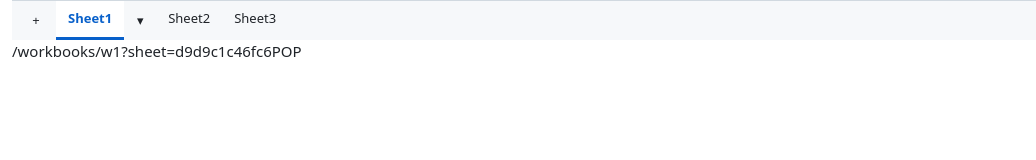
it: SheetTabs › rename › cancels on Escape
Double-click the tab with test id "sheet-tab" showing "Sheet1" at (90, 20), box [56,1,124,40]
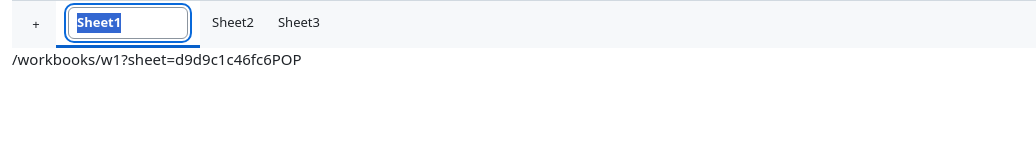
Replace the text in the field named "Sheet name" with "Budget" at (128, 23), box [68,7,188,39]
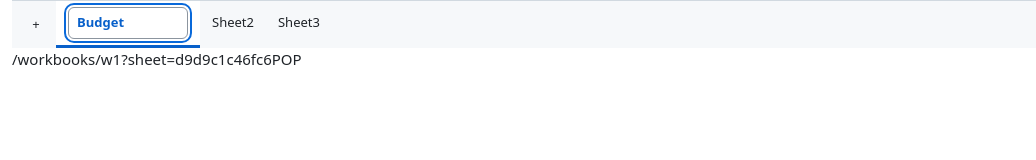
Press Escape in the field named "Sheet name", box [68,7,188,39]
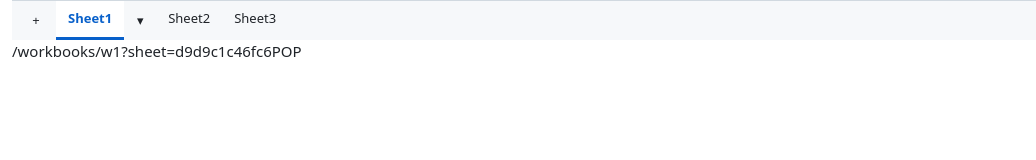
expect the text "Sheet1" is shown: met, box [68,9,112,29]
